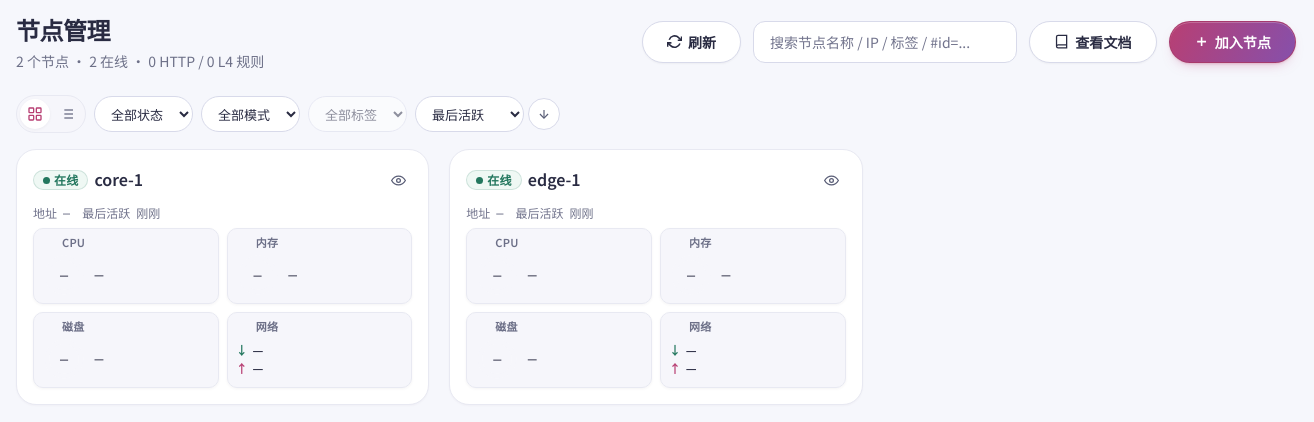
AgentsPage list UX › syncs the search term into the URL query and shows the filtered count
Expected: the text with test id "agents-subtitle" shows "2 个节点", [16, 51, 264, 71]
Type "edge" into the field named "agent-search" at (885, 42), box [753, 20, 1017, 62]
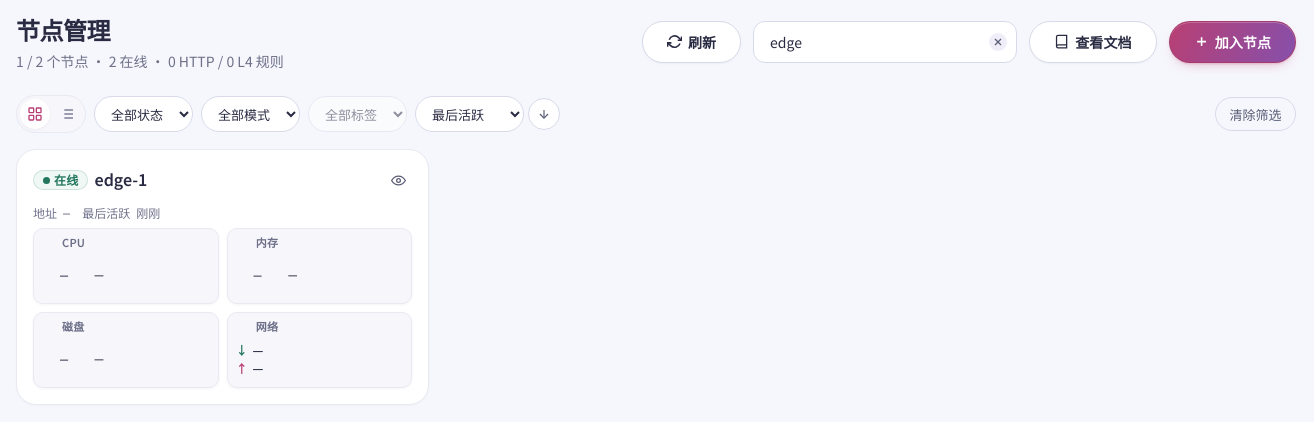
Now the text with test id "agents-subtitle" shows "1 / 2 个节点", box [16, 51, 284, 71]
